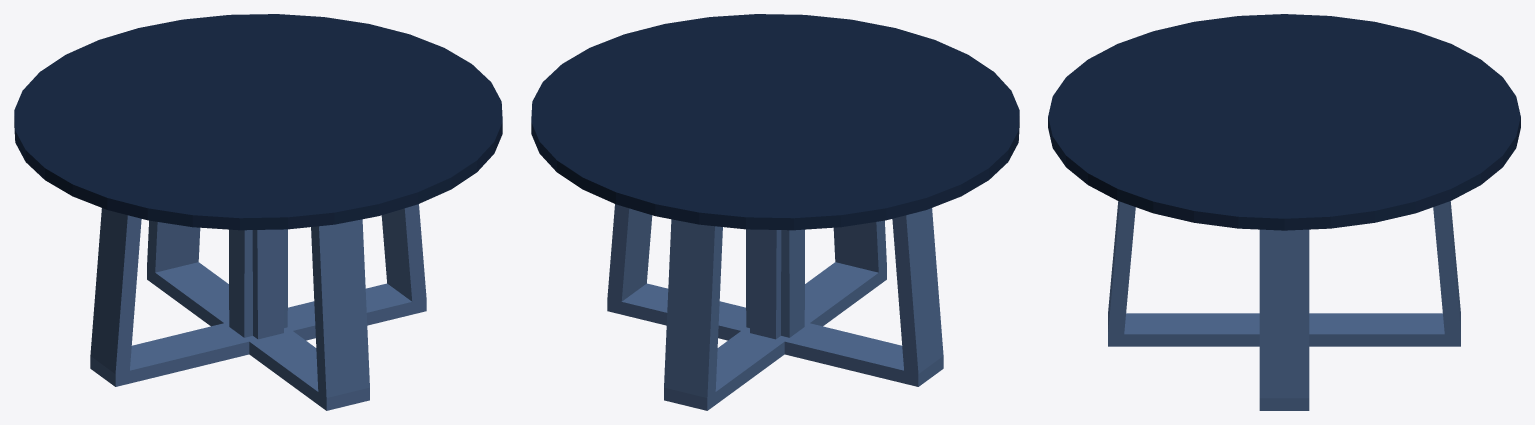
The model's file is mesa.fbx.
3 renders of one model, left to right at view 1: azimuth 30°, elevation 25°; view 2: azimuth 150°, elevation 25°; view 3: azimuth 270°, elevation 25°, orthographic.
Visible parts, largest first — view 1: Mesa_HUB; view 2: Mesa_HUB; view 3: Mesa_HUB.
Boxes of the visible parts, left/top/right/bottom form: Mesa_HUB: left=14, top=14, right=502, bottom=410; Mesa_HUB: left=531, top=14, right=1019, bottom=410; Mesa_HUB: left=1048, top=14, right=1520, bottom=410.
Bounding box in the file's own units: 185 × 92.76 × 181.
